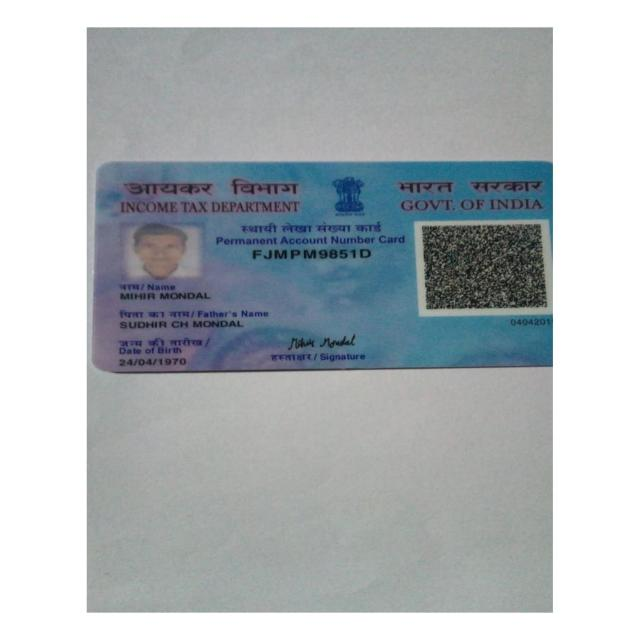pan_card: (97, 161, 552, 371)
